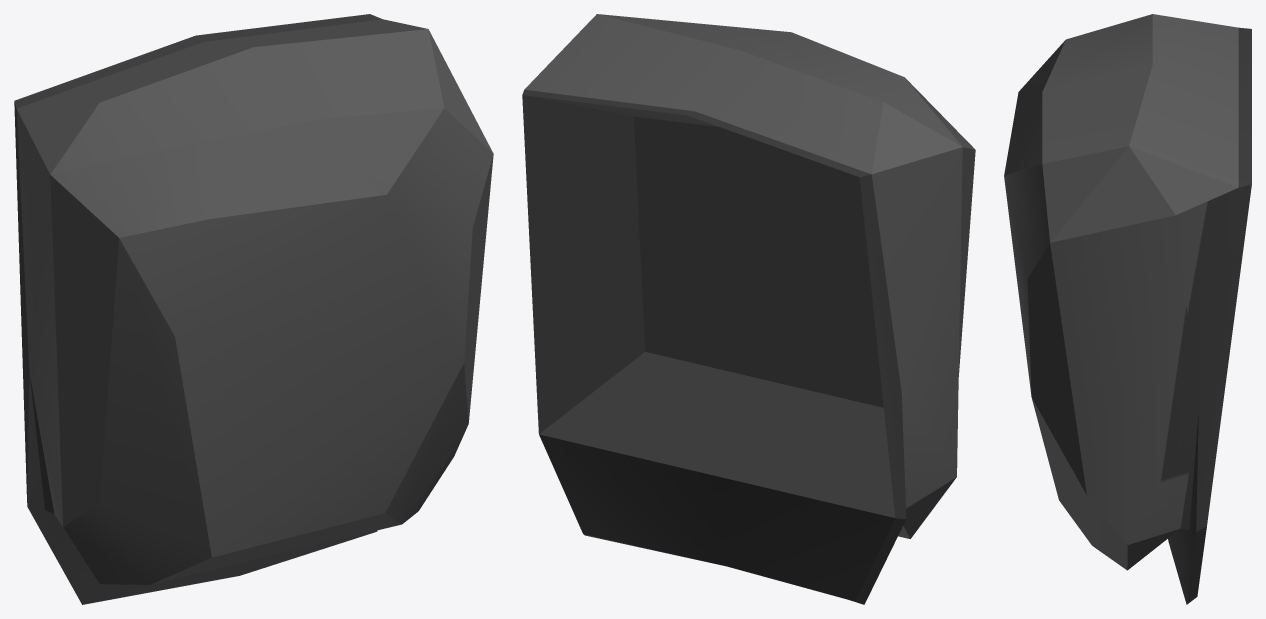
File: WorkerZombieCap.glb
3 views of the same model, side by side, from view 1: azimuth 30°, elevation 25°; view 2: azimuth 150°, elevation 25°; view 3: azimuth 270°, elevation 25° (orthographic). The views are drawn at different scales.
Parts seen in each view (by area): view 1: WorkerZombieCap; view 2: WorkerZombieCap; view 3: WorkerZombieCap.
Part boxes in pixels (left/top/right/bottom): WorkerZombieCap: left=14, top=14, right=493, bottom=604; WorkerZombieCap: left=522, top=14, right=975, bottom=604; WorkerZombieCap: left=1004, top=14, right=1251, bottom=604.
Size of the model in its own units: 2.77 by 3.38 by 1.59.
Materials: 1 (1 with a texture image).
